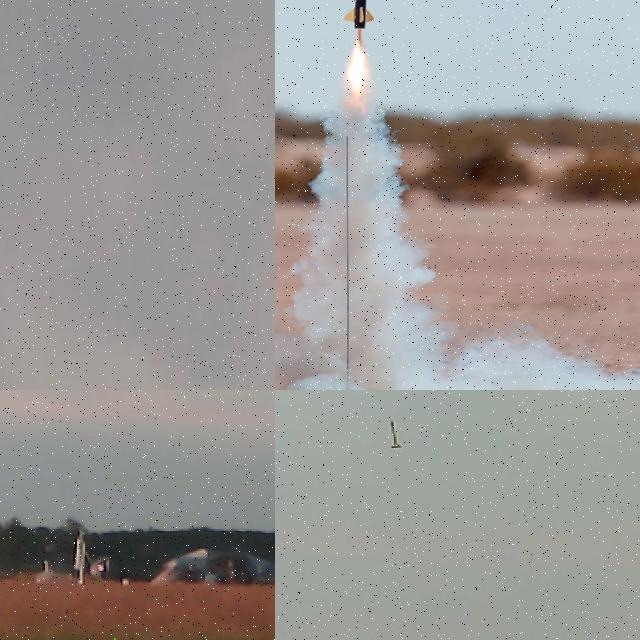Rocket: (72, 530, 84, 573), (391, 420, 401, 449)
